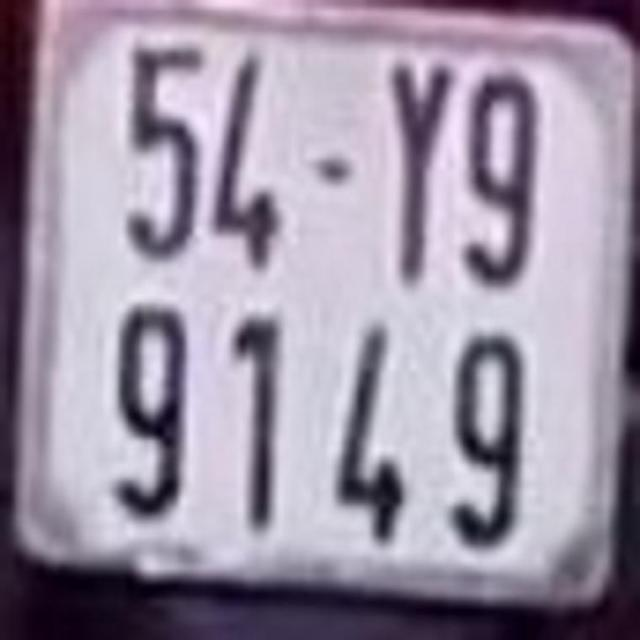1: (220, 312, 280, 530)
4: (331, 313, 408, 537), (215, 45, 284, 268)
5: (125, 40, 203, 257)
9: (440, 327, 524, 554), (111, 296, 188, 523), (463, 58, 537, 287)
Y: (382, 47, 453, 292)
